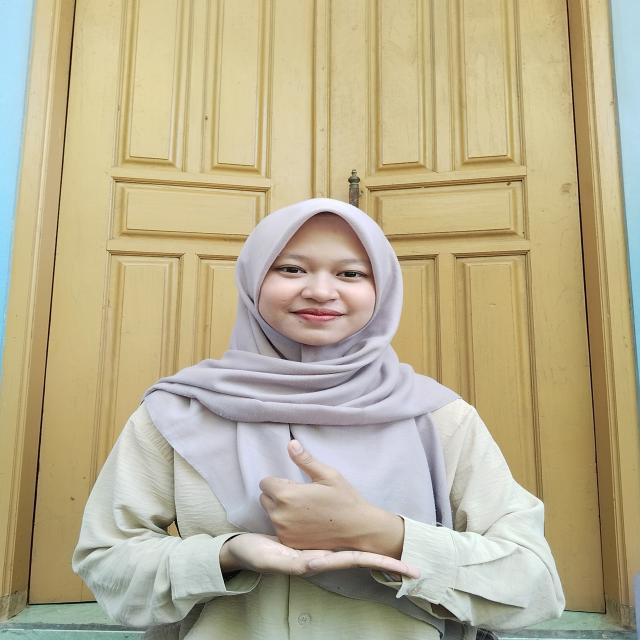cantik: (202, 422, 414, 587)
